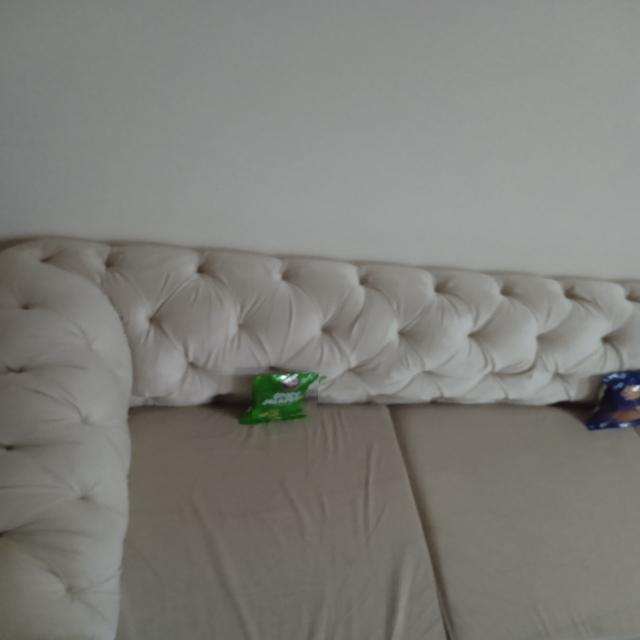Plastic: (252, 372, 320, 420)
